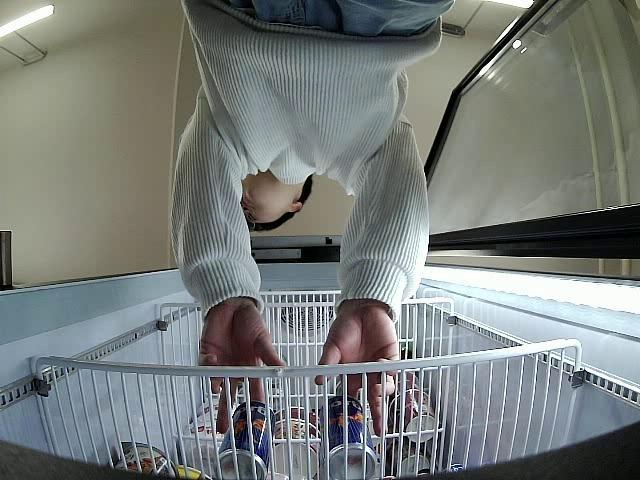16_hot6: (211, 401, 275, 480), (318, 396, 376, 480)
